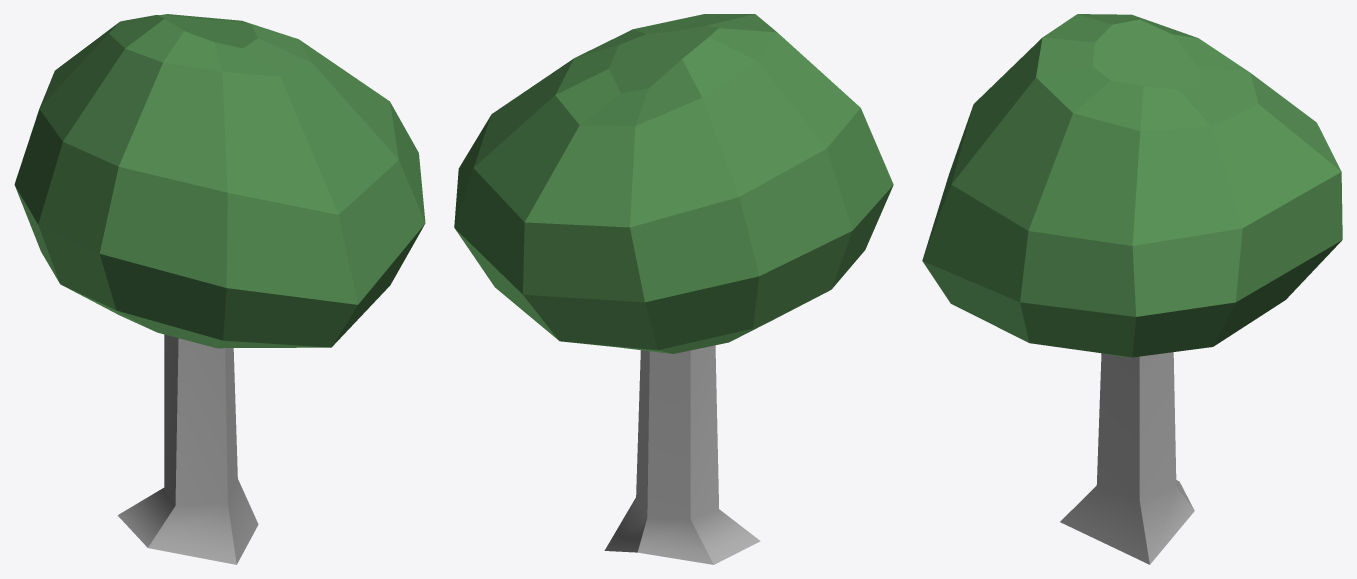
Rendered from Tree3.fbx.
3 renders of one model, left to right at view 1: azimuth 30°, elevation 25°; view 2: azimuth 150°, elevation 25°; view 3: azimuth 270°, elevation 25°, orthographic. The views are drawn at different scales.
Visible parts, largest first — view 1: pSphere7, pCylinder36; view 2: pSphere7, pCylinder36; view 3: pSphere7, pCylinder36.
Part boxes in pixels (x1,y1,x2,y2): pSphere7: (14,14,425,348); pCylinder36: (117,334,258,564); pSphere7: (454,14,893,353); pCylinder36: (604,345,760,564); pSphere7: (922,14,1342,357); pCylinder36: (1060,352,1194,564).
Bounding box in the file's own units: 16.05 × 21.15 × 16.11.
